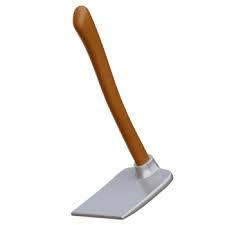HOUE: (63, 0, 209, 225)
